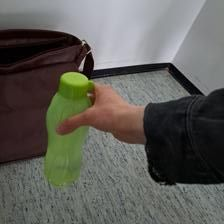bottle: (39, 67, 97, 190)
